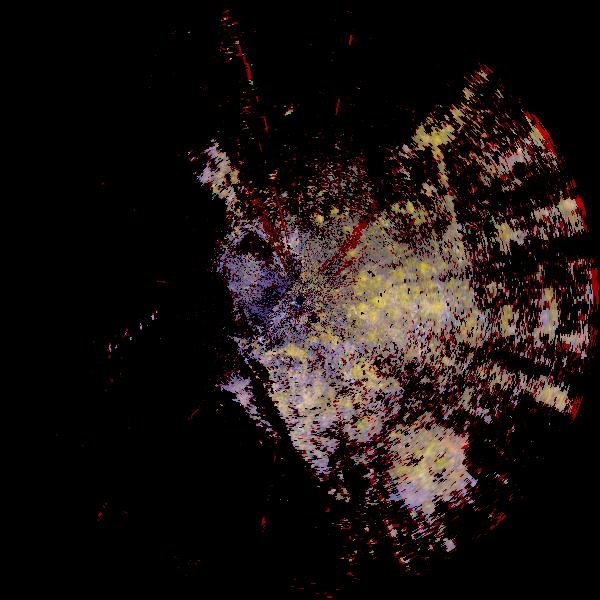roost: (251, 334, 338, 421), (410, 424, 497, 511)
